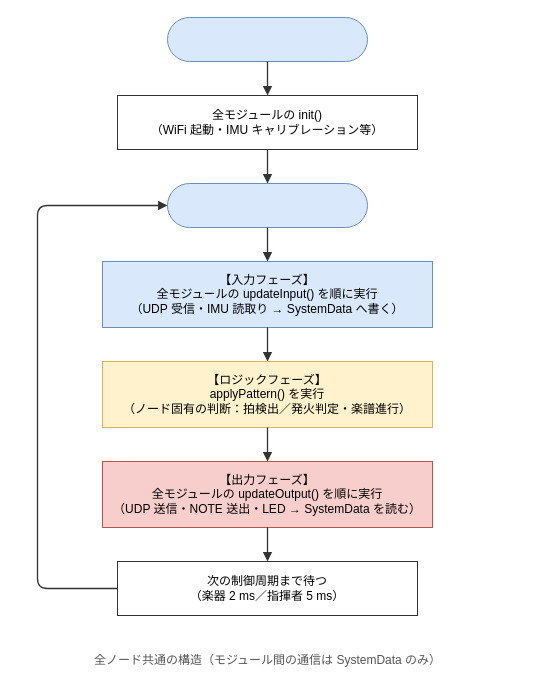
Some shapes in this 534 by 691 pixel diagram are drawn without their labels. The centre of each missing label's shape, as x and y in pixels:
"loop 開始" belongs at (267,205).
"電源投入" belongs at (267,39).
